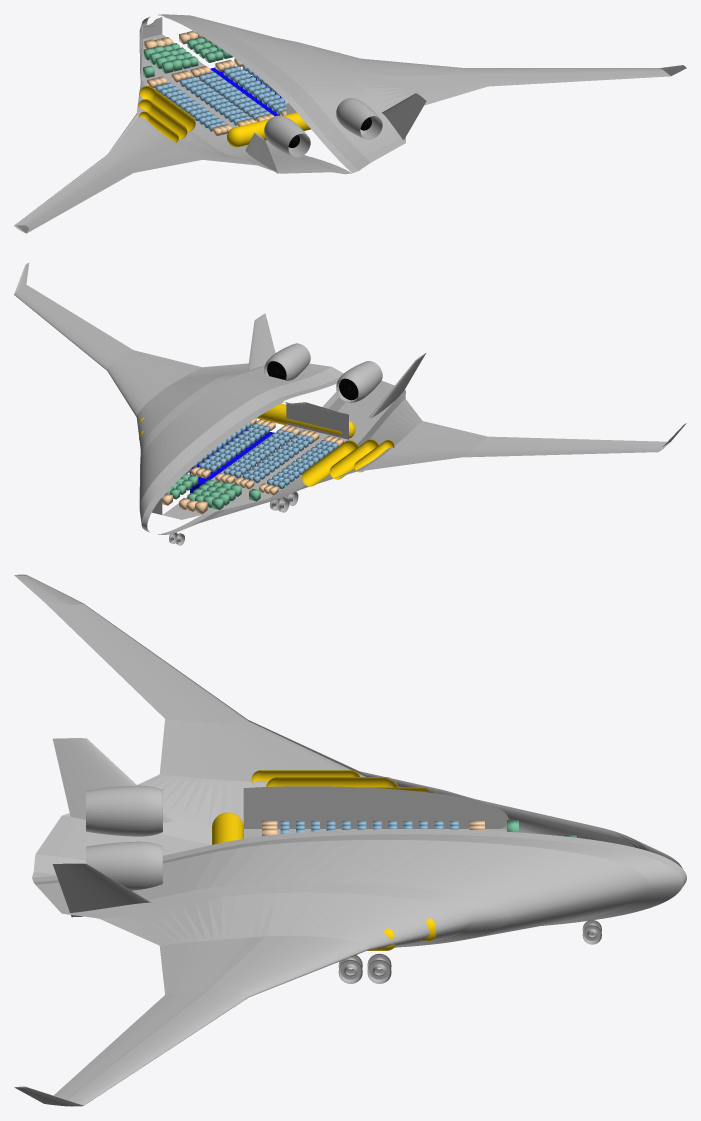
Rendered from BWB_LH2.gltf.
3 renders of one model, top to bottom at view 1: azimuth 30°, elevation 25°; view 2: azimuth 150°, elevation 25°; view 3: azimuth 270°, elevation 25°, orthographic. The views are drawn at different scales.
Visible parts, largest first — view 1: Renderer Node; view 2: Renderer Node; view 3: Renderer Node.
Part boxes in pixels (x1,y1,x2,y2): Renderer Node: (14, 14, 686, 233); Renderer Node: (14, 263, 686, 545); Renderer Node: (14, 574, 686, 1106).
Bounding box in the file's own units: 64 × 8.76 × 35.54.
